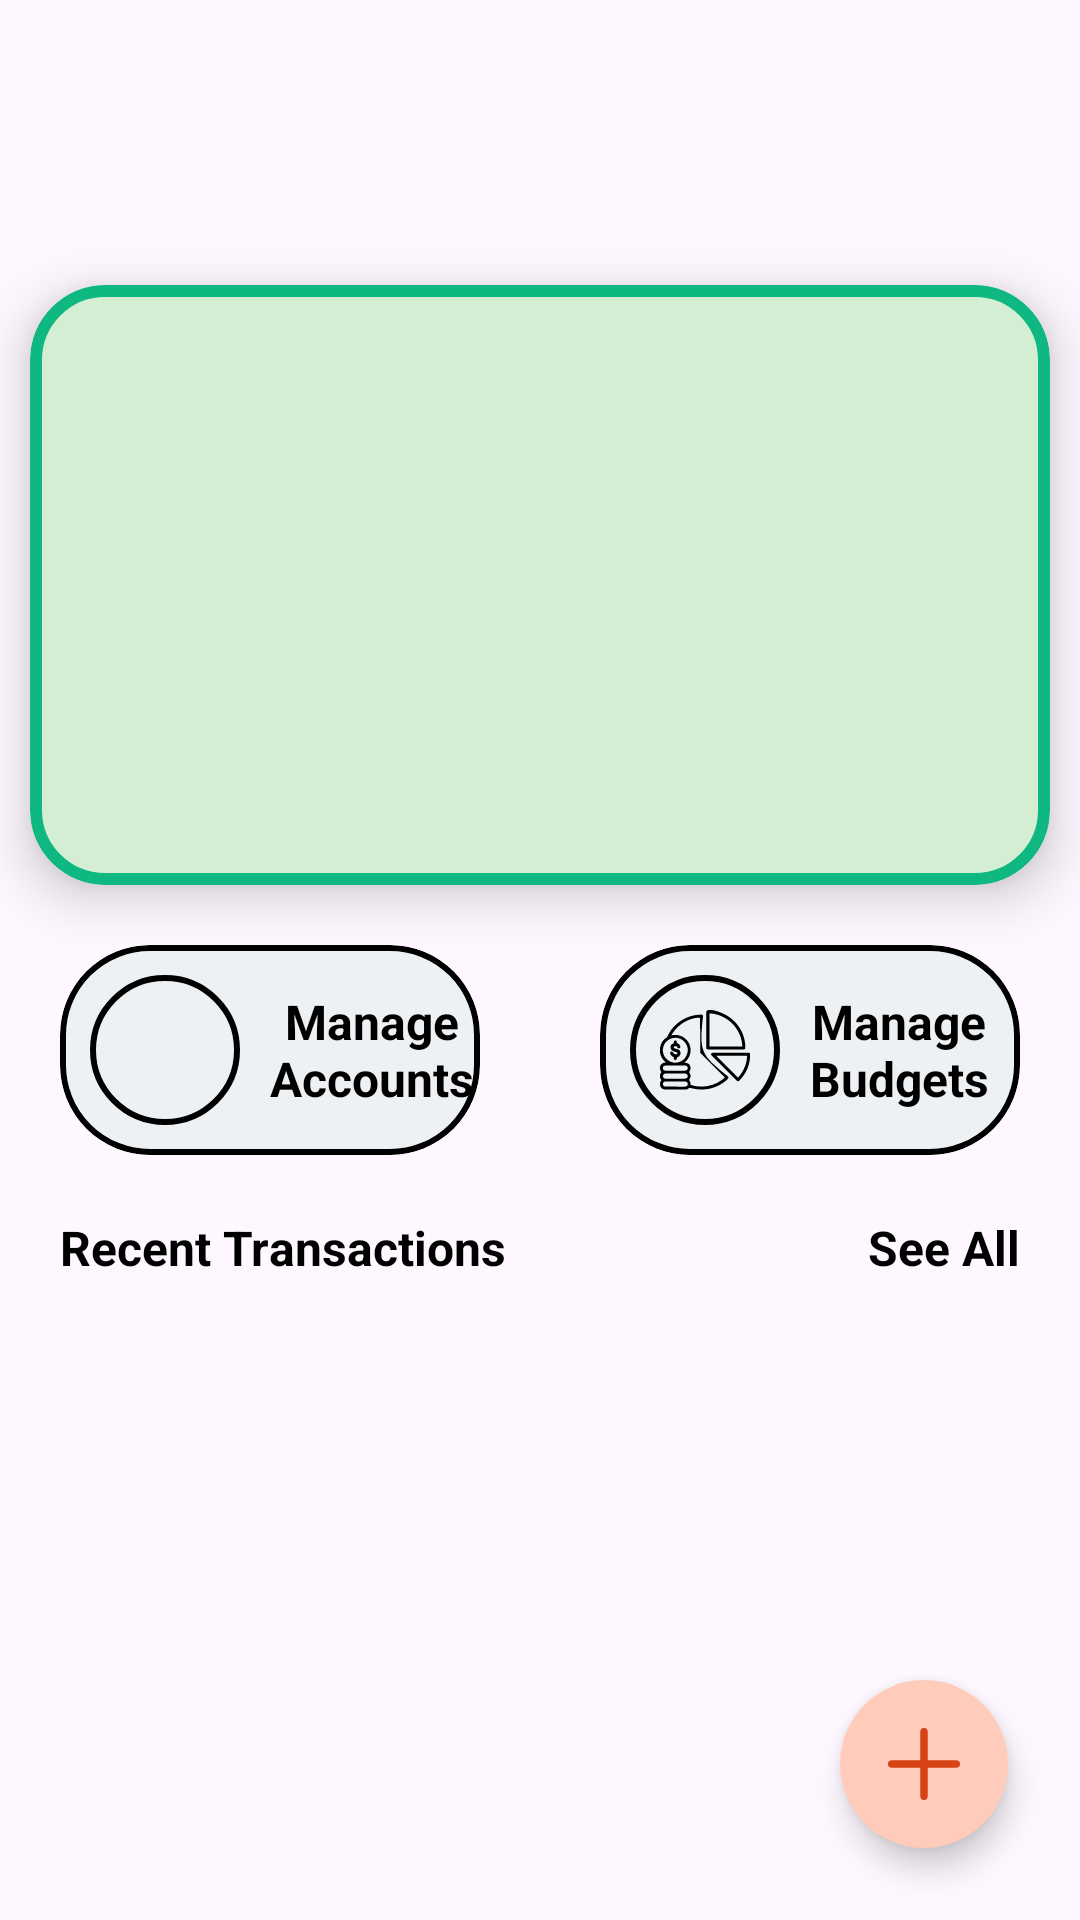

Icon bounding boxes for this 1080*1920 phone screenshot, format (x1, y1, x2, y2):
plus: (840, 1680, 1008, 1848)
